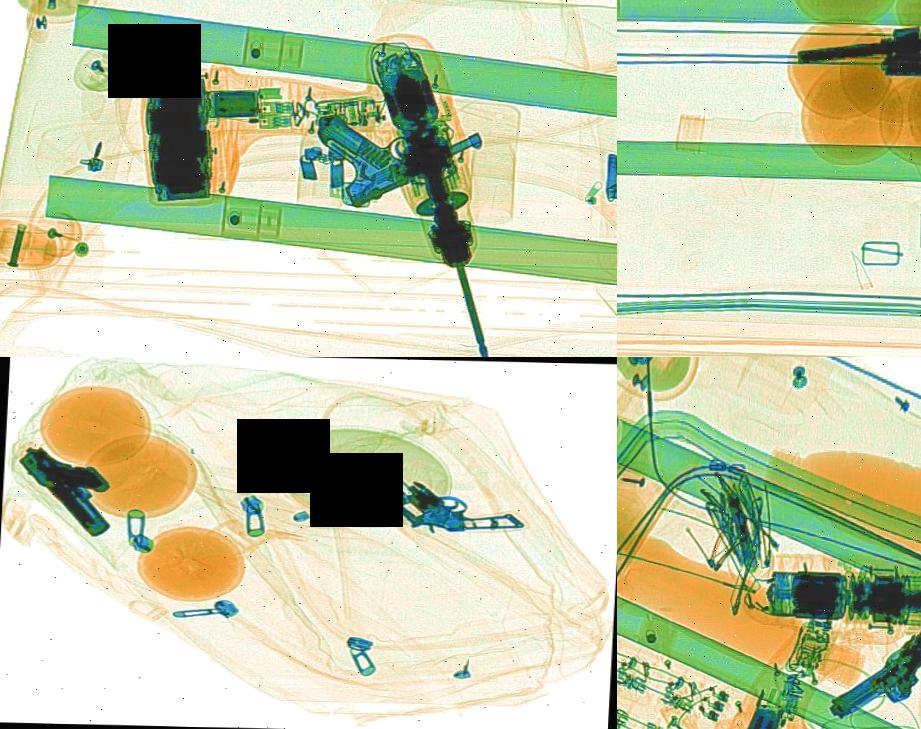Gun: (265, 70, 495, 213), (321, 428, 530, 556), (4, 435, 147, 539), (810, 602, 921, 729), (794, 19, 921, 73), (877, 32, 921, 78)
